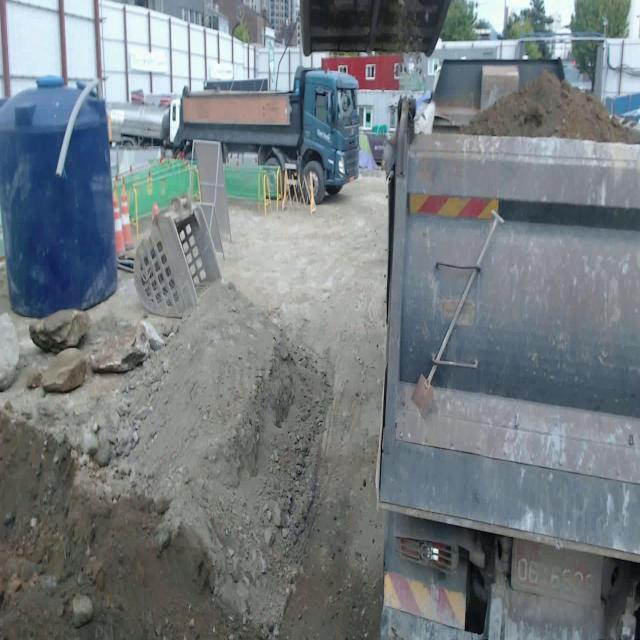red-sand: (459, 71, 640, 143)
white-sand: (116, 285, 331, 634)
